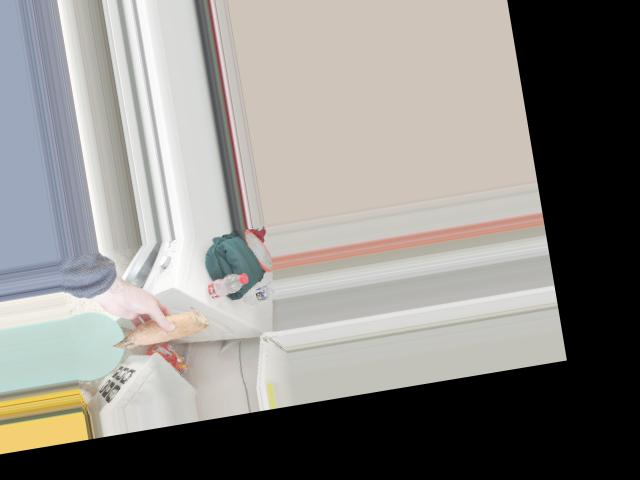sweet_potato: (110, 304, 201, 349)
